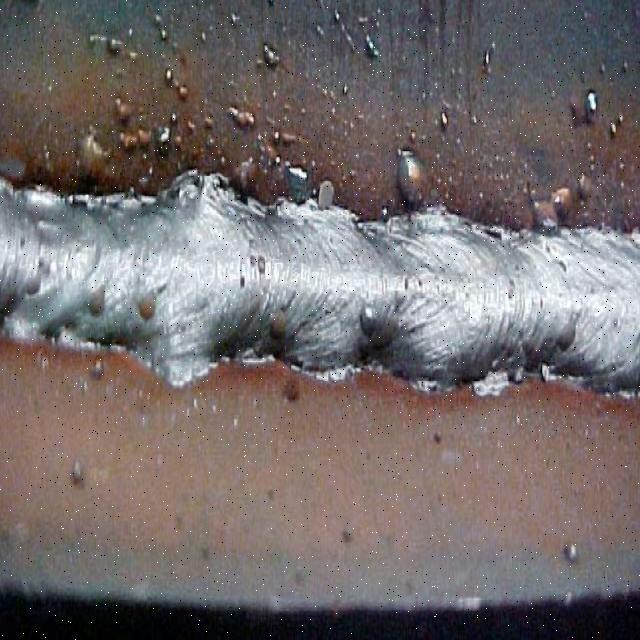Bad Welding: (5, 153, 638, 397)
